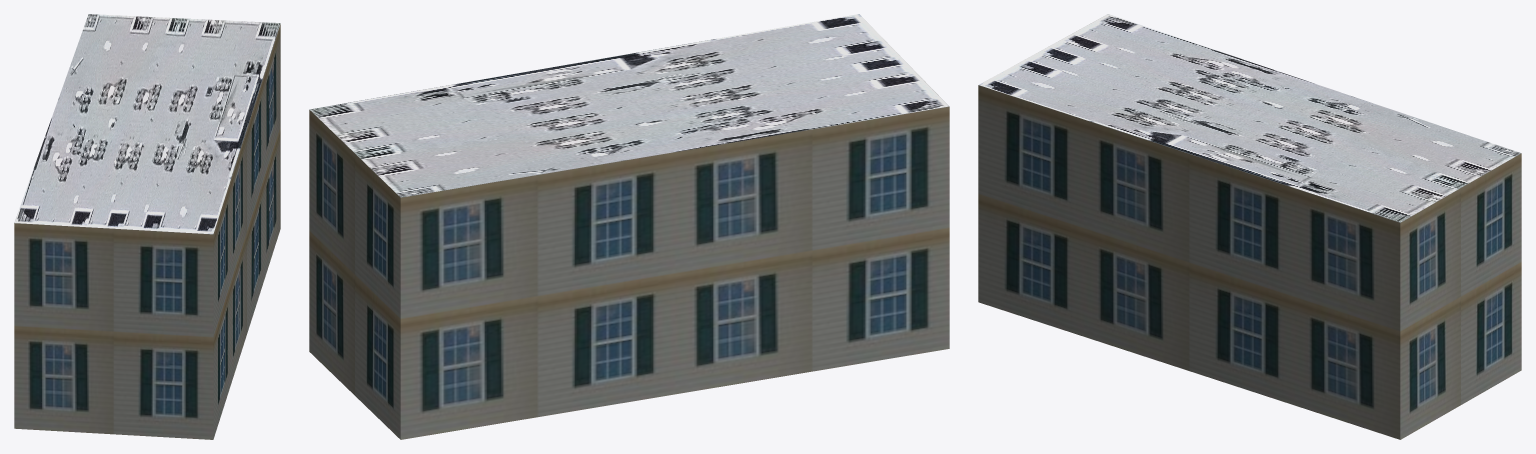
The model's file is ResTex__326.fbx.
The picture shows the model from 3 angles, left to right: view 1: azimuth 30°, elevation 25°; view 2: azimuth 150°, elevation 25°; view 3: azimuth 270°, elevation 25°; orthographic projection. The views are drawn at different scales.
Parts seen in each view (by area): view 1: CityEngineMaterial_7_m, CityEngineMaterial_4_m; view 2: CityEngineMaterial_7_m, CityEngineMaterial_4_m; view 3: CityEngineMaterial_7_m, CityEngineMaterial_4_m.
Part boxes in pixels (bbox=[...]): CityEngineMaterial_7_m: bbox=[14, 24, 280, 439]; CityEngineMaterial_4_m: bbox=[14, 14, 280, 234]; CityEngineMaterial_7_m: bbox=[309, 106, 949, 439]; CityEngineMaterial_4_m: bbox=[309, 14, 949, 197]; CityEngineMaterial_7_m: bbox=[978, 85, 1521, 439]; CityEngineMaterial_4_m: bbox=[979, 14, 1520, 222].
Bounding box in the file's own units: 12.36 × 6 × 13.59.
2 materials, 2 textured.
